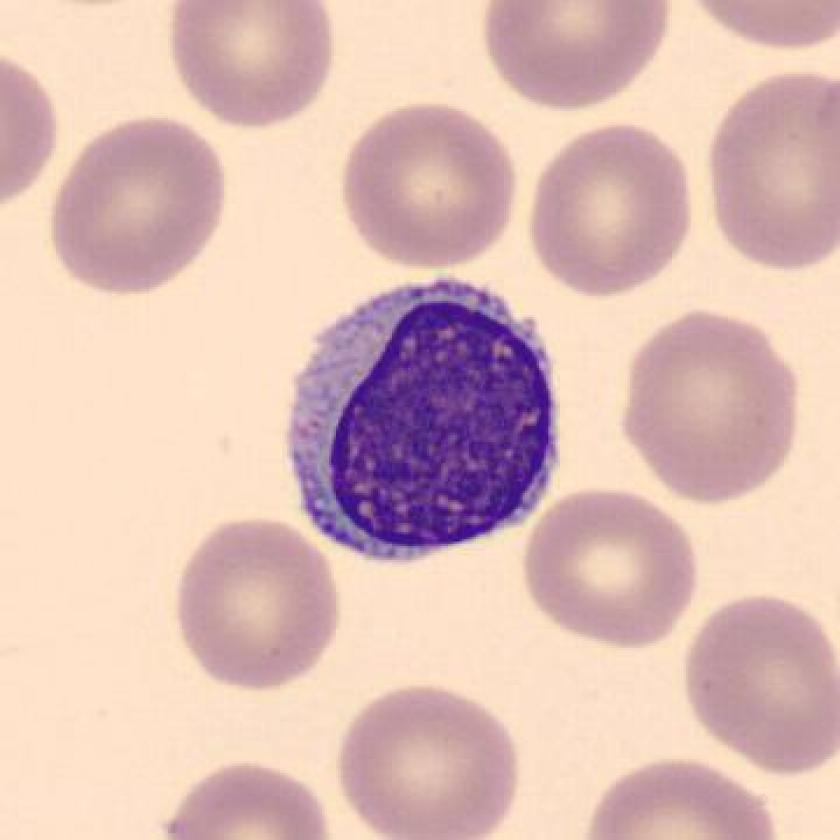lymphocyte: (267, 263, 584, 573)
